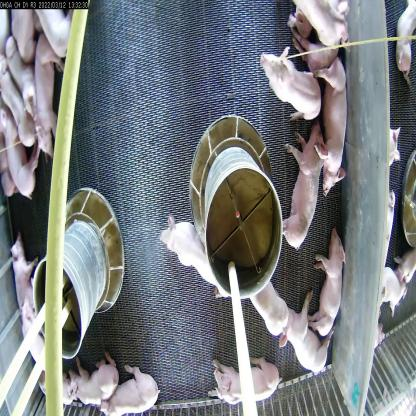Pig: (272, 296, 336, 392), (162, 215, 223, 306), (282, 125, 323, 256), (255, 46, 323, 121), (313, 54, 348, 198), (205, 356, 279, 416), (311, 222, 347, 343), (0, 108, 42, 204), (30, 27, 62, 152), (246, 275, 294, 348), (0, 55, 34, 155), (68, 353, 122, 415), (101, 362, 157, 415), (3, 30, 36, 114), (7, 244, 33, 318)
